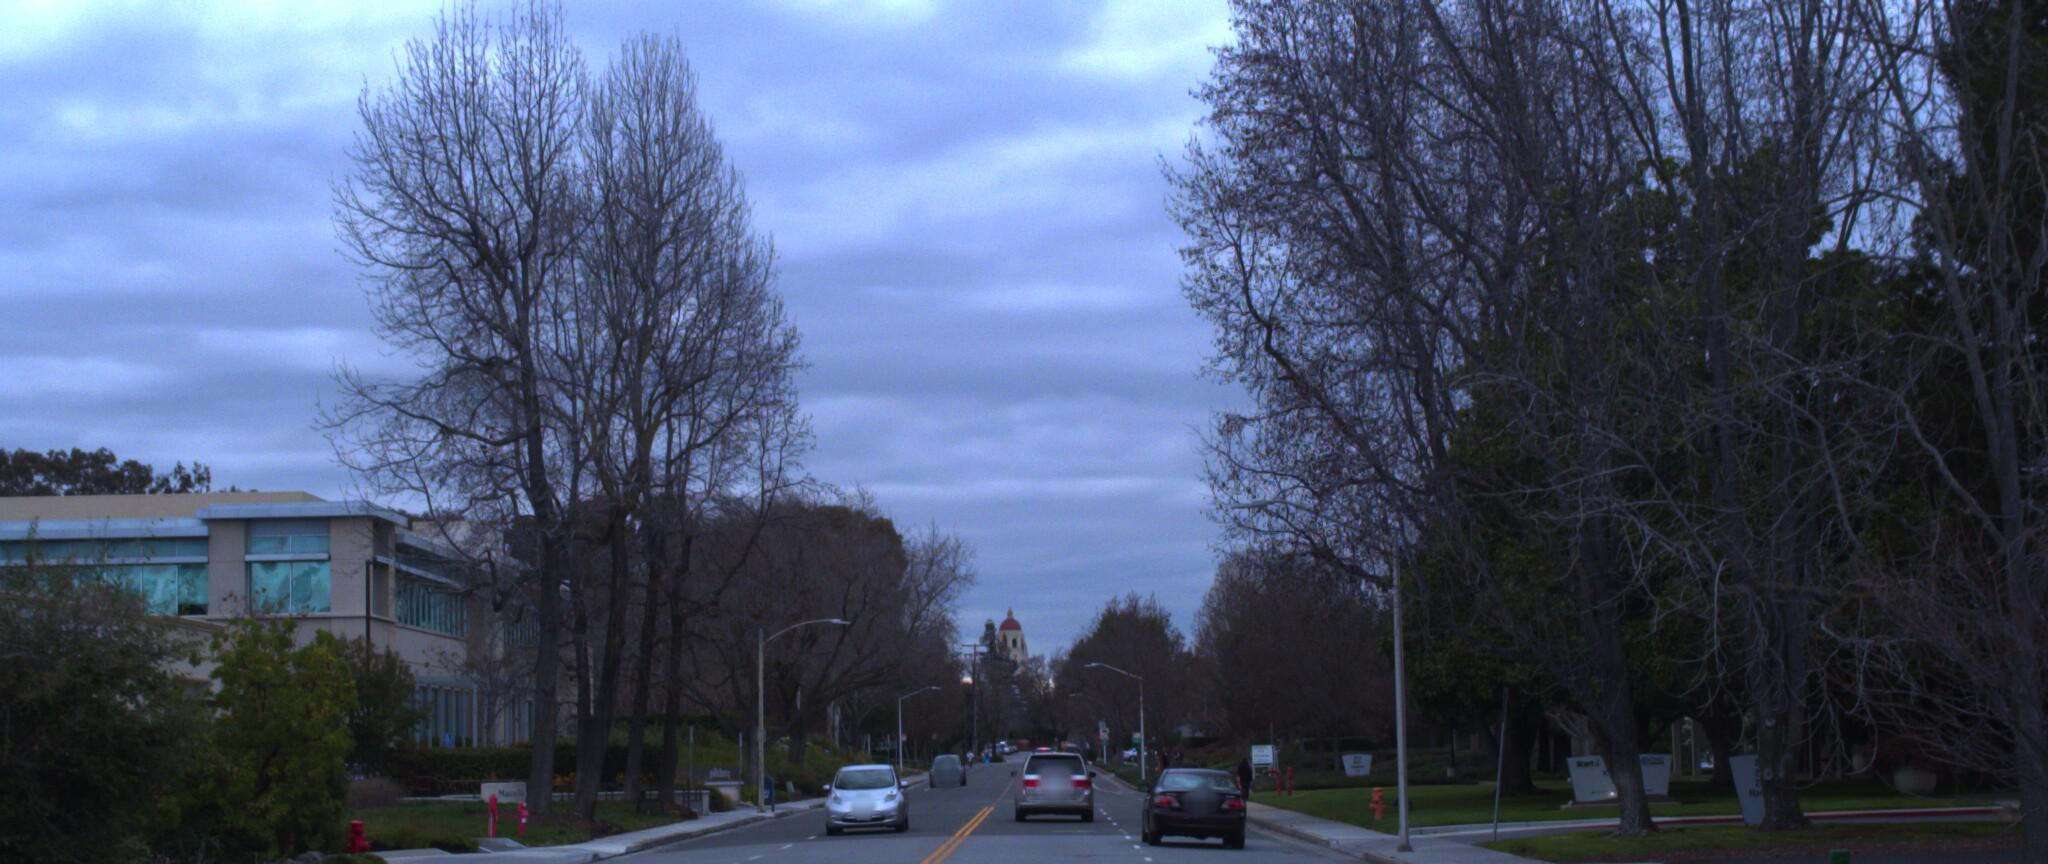car: (1130, 761, 1246, 850), (808, 750, 901, 821), (1010, 740, 1095, 812)
